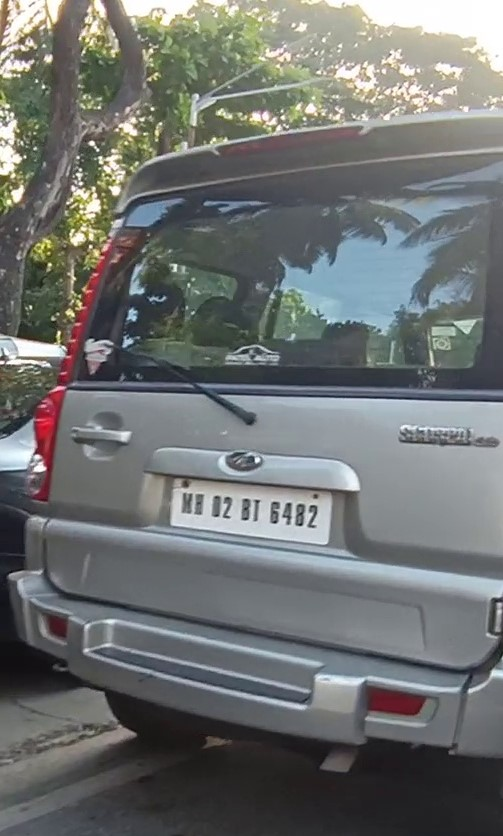MH02BT6482: (170, 475, 331, 547)
